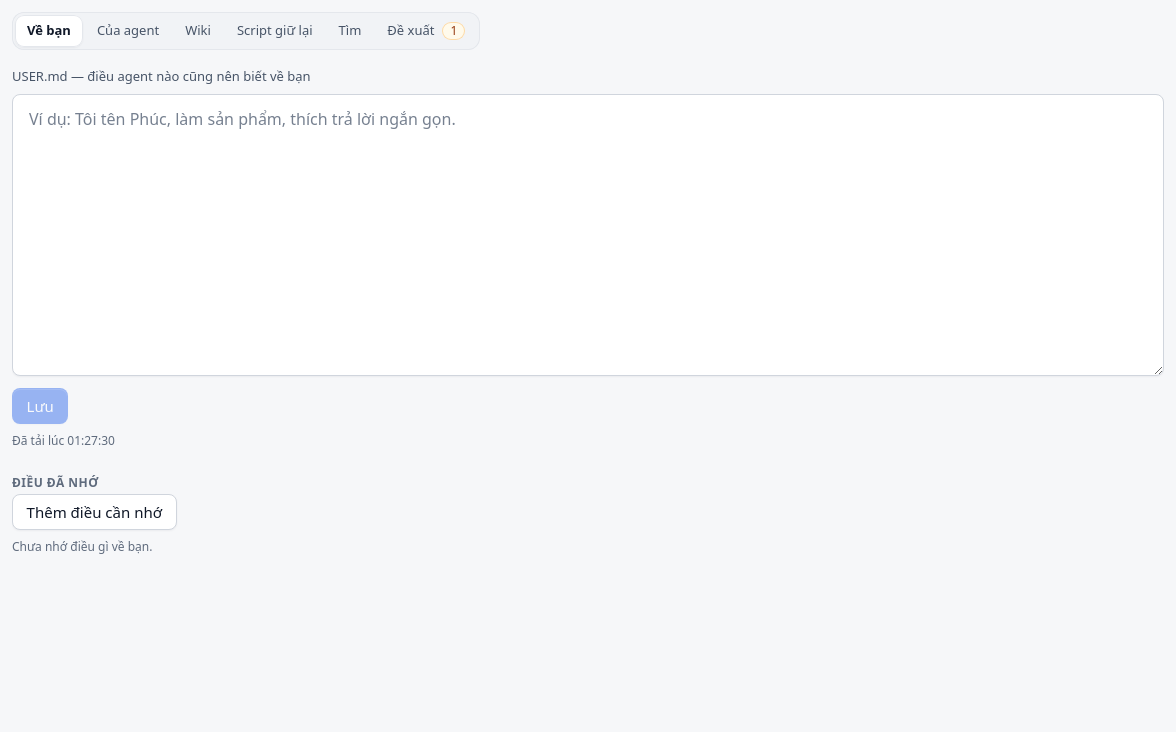
Test: MemoryPanel › approving a proposal writes the fact and moves it into the history
Click the tab "Đề xuất 1".
click(426, 31)  # box [375,15,477,47]
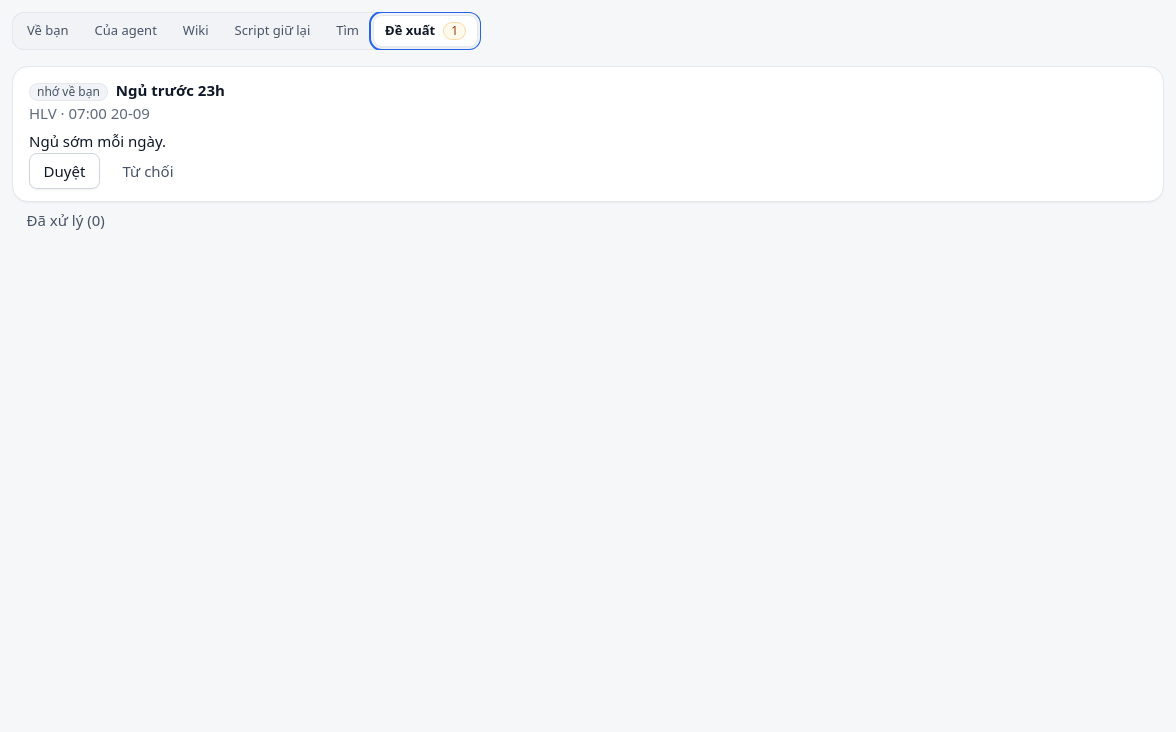
Expected: the text "Ngủ trước 23h" is shown, [116,79,225,102]
Expected: the text "nhớ về bạn" is shown, [29,83,108,101]
Click the button "Duyệt".
click(64, 171)  # box [29,153,100,189]
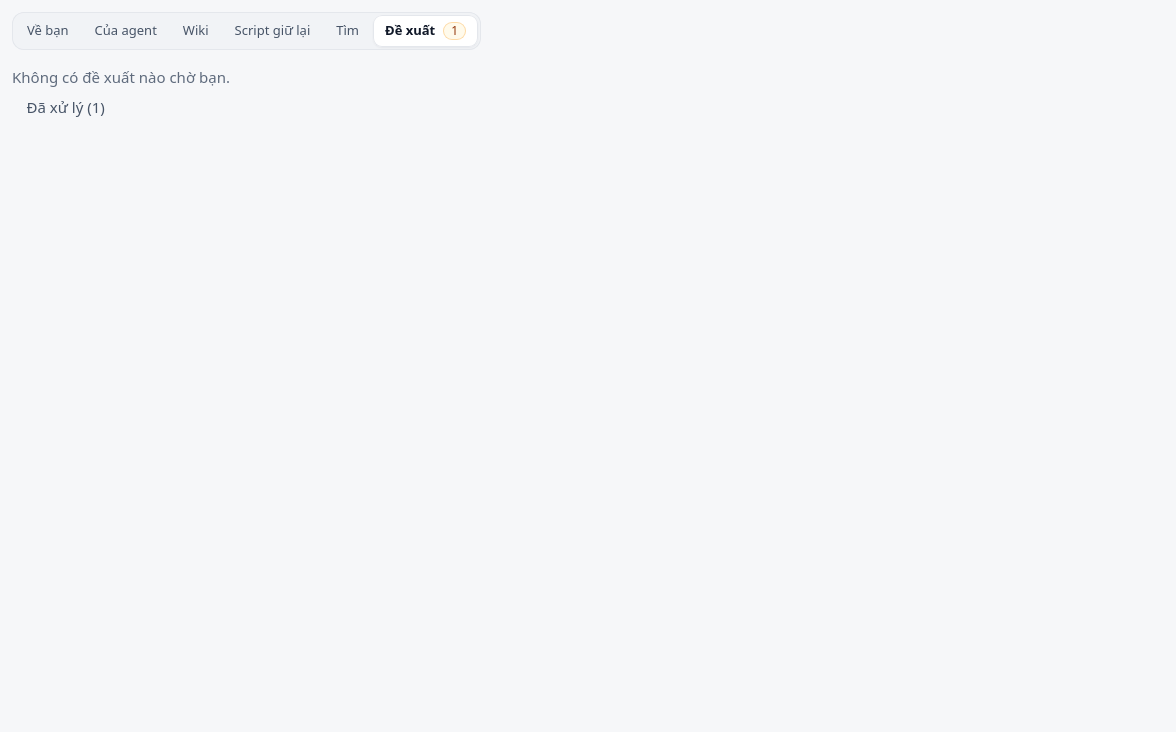
Expected: the text "Không có đề xuất nào chờ bạn." is shown, [12,67,230,87]
Click the button "Đã xử lý (1)".
click(66, 107)  # box [12,89,119,125]
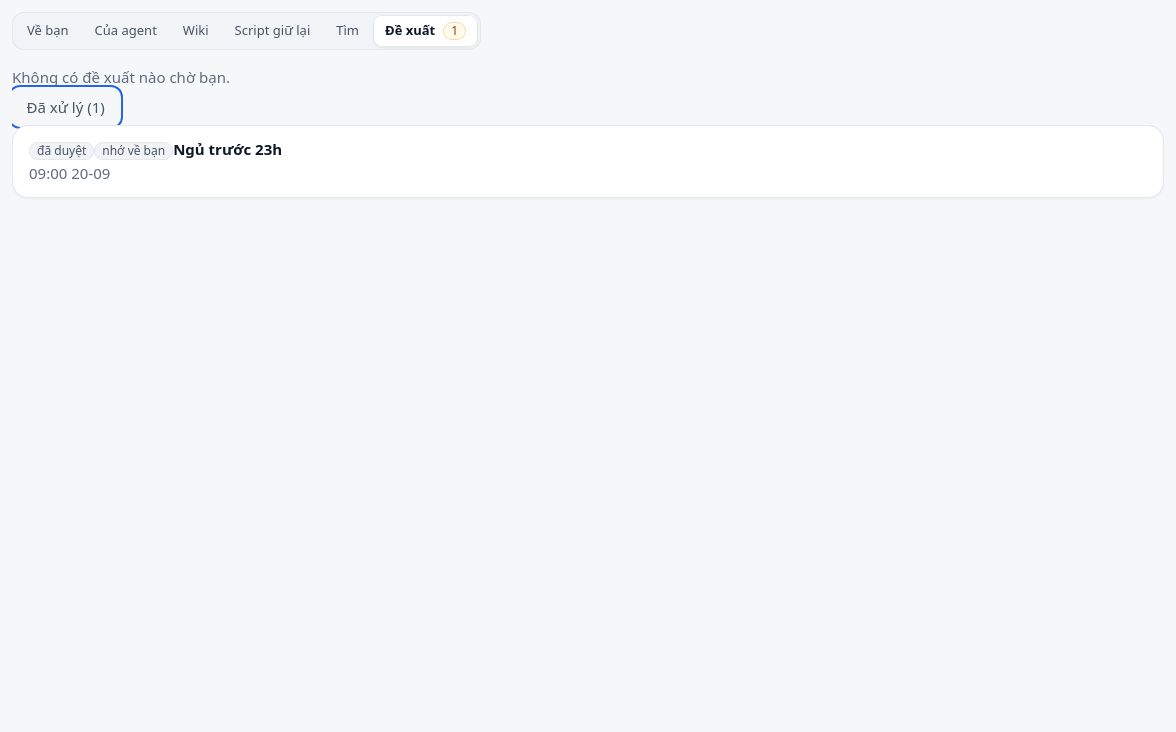
Expected: the text "đã duyệt" is shown, [29,142,94,160]
